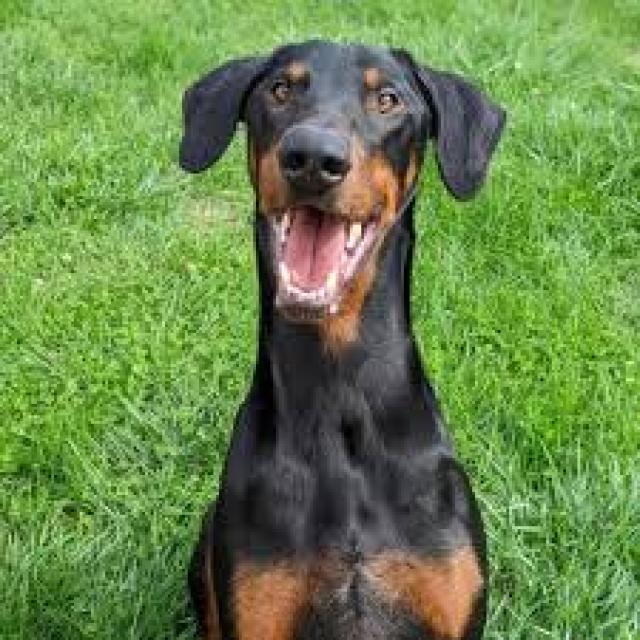Dog: (160, 33, 535, 640)
